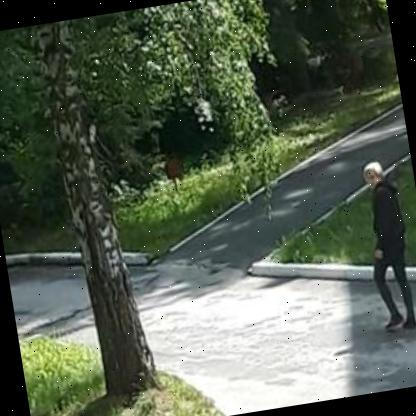tree: (21, 10, 190, 409), (342, 151, 416, 338)
